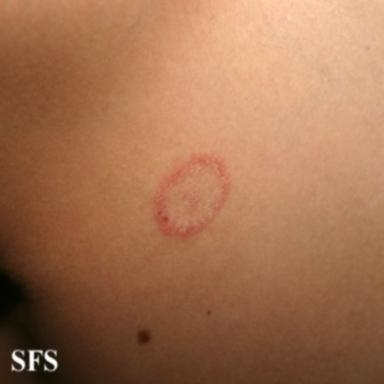Tinea-Corporis: (155, 156, 229, 235)
